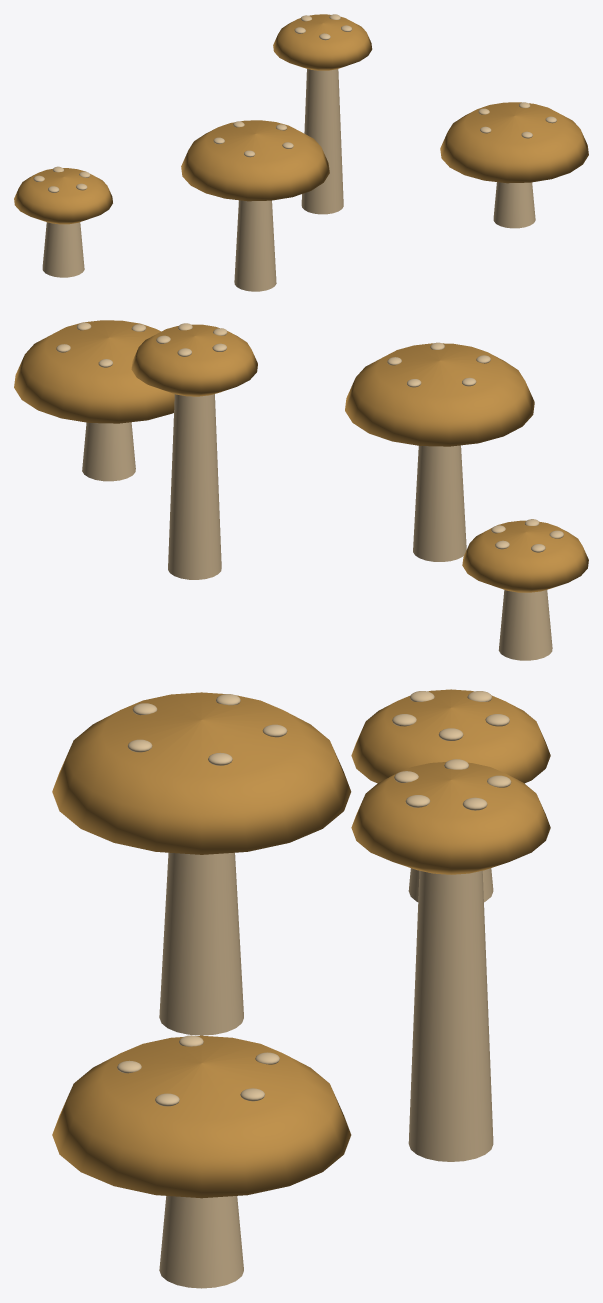
Rendered from mia-mushrooms.glb.
The picture shows the model from 3 angles, top to bottom: view 1: azimuth 30°, elevation 25°; view 2: azimuth 150°, elevation 25°; view 3: azimuth 270°, elevation 25°; orthographic projection. The views are drawn at different scales.
Visible parts, largest first — view 1: Body_hay-mid, Body_ivory; view 2: Body_hay-mid, Body_ivory; view 3: Body_hay-mid, Body_ivory.
Boxes of the visible parts, x1,y1,x2,y2 form: Body_hay-mid: (14, 14, 588, 224); Body_ivory: (33, 14, 556, 291); Body_hay-mid: (14, 320, 588, 592); Body_ivory: (56, 322, 563, 660); Body_hay-mid: (52, 689, 550, 1198); Body_ivory: (117, 691, 511, 1288).
Bounding box in the file's own units: 0.46 × 0.1612 × 0.2.
